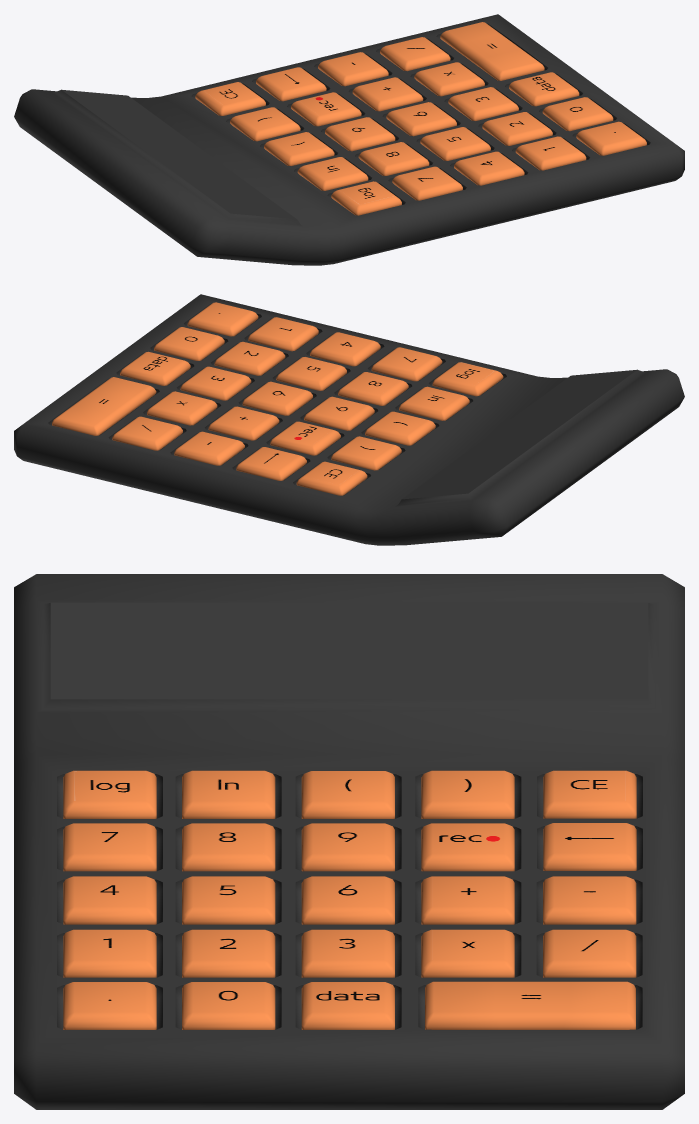
Rendered from Calculator (2).fbx.
3 views of the same model, one above another, from view 1: azimuth 30°, elevation 25°; view 2: azimuth 150°, elevation 25°; view 3: azimuth 270°, elevation 25° (orthographic). The views are drawn at different scales.
Parts seen in each view (by area): view 1: Calculator, Screen, Button_24, Button_16, Button_6, Button_14, Button_1, Button_9, Button_11, Button_22, Button_2, Button_15 (+14 smaller); view 2: Calculator, Screen, Button_24, Button_14, Button_21, Button_5, Button_6, Button_11, Button_18, Button_19, Button_1, Button_8 (+14 smaller); view 3: Calculator, Screen, Button_24, Button_9, Button_6, Button_14, Button_11, Button_7, Button_8, Button_12, Button_13, Button_15 (+14 smaller).
Boxes of the visible parts, box(x1,y1,x2,y2) form: Calculator: box(14, 14, 684, 265); Screen: box(61, 89, 296, 219); Button_24: box(440, 22, 544, 80); Button_16: box(515, 136, 586, 170); Button_6: box(392, 166, 462, 200); Button_14: box(352, 77, 423, 111); Button_1: box(331, 181, 401, 215); Button_9: box(291, 92, 361, 126); Button_11: box(454, 151, 524, 185); Button_22: box(542, 97, 613, 131); Button_2: box(297, 157, 368, 190); Button_15: box(318, 52, 388, 86); Calculator: box(14, 294, 684, 545); Screen: box(402, 369, 637, 499); Button_24: box(52, 377, 156, 435); Button_14: box(208, 406, 279, 440); Button_21: box(187, 302, 258, 336); Button_5: box(296, 461, 367, 495); Button_6: box(371, 347, 442, 381); Button_11: box(310, 332, 380, 366); Button_18: box(180, 366, 251, 400); Button_19: box(147, 391, 217, 425); Button_1: box(432, 362, 503, 396); Button_8: box(304, 396, 374, 430); Calculator: box(14, 574, 684, 1109); Screen: box(50, 602, 648, 699); Button_24: box(425, 981, 635, 1029); Button_9: box(421, 823, 514, 871); Button_6: box(63, 823, 156, 871); Button_14: box(421, 876, 514, 924); Button_11: box(63, 876, 156, 924); Button_7: box(182, 823, 275, 871); Button_8: box(301, 823, 394, 871); Button_12: box(182, 876, 275, 924); Button_13: box(301, 876, 394, 924); Button_15: box(543, 876, 636, 924).
Size of the model in its own units: 450 by 66 by 300.
25 materials, 24 textured.
